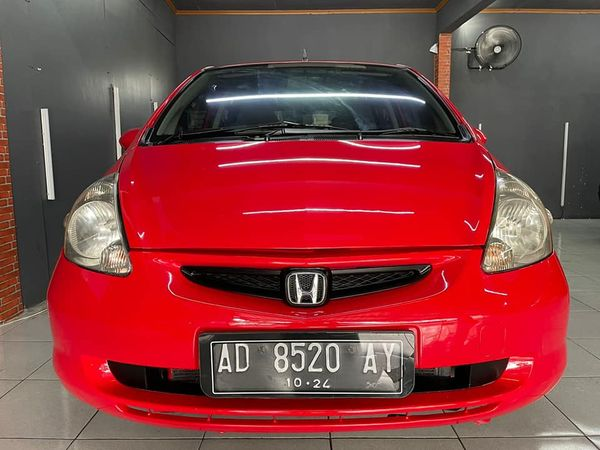plate: (208, 332, 404, 396)
